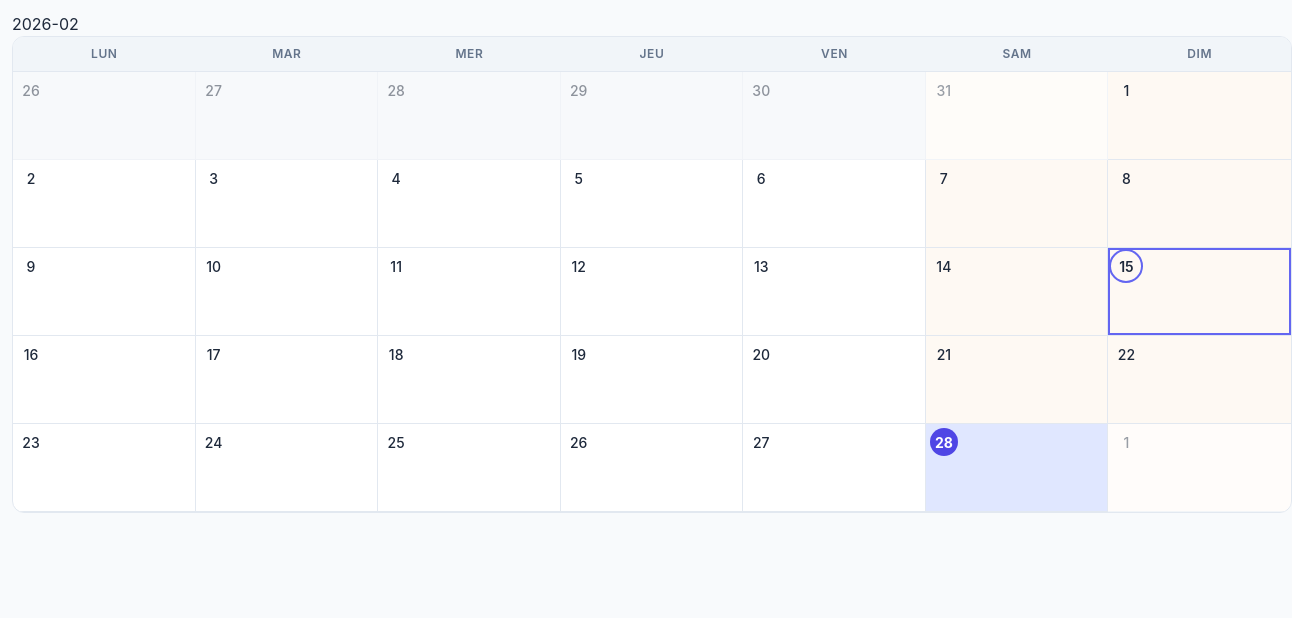
it: CalendarGrid swipe navigation › swipe left twice: Feb → Mar → Apr
Press the mouse on the table at (652, 274), box [12,36,1291,513]
Wait 500 ms
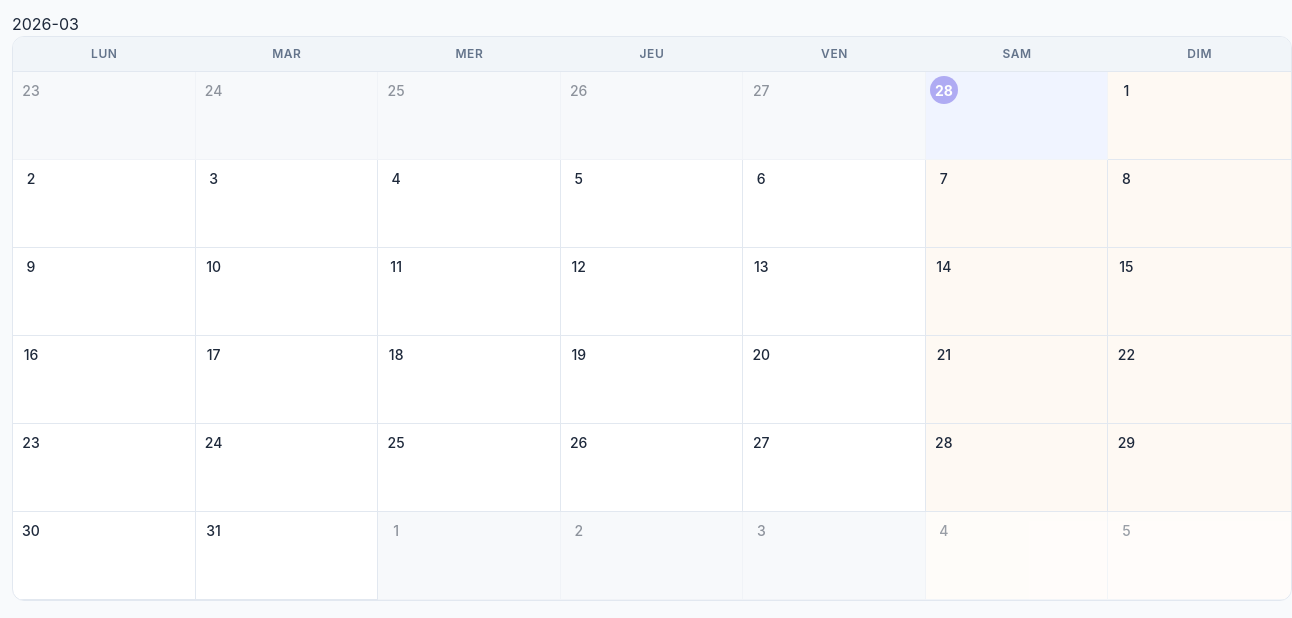
Result: the text with test id "current-month" reads "2026-03" at [12,14,79,34]
Press the mouse on the table at (652, 318), box [12,36,1291,601]
Wait 500 ms
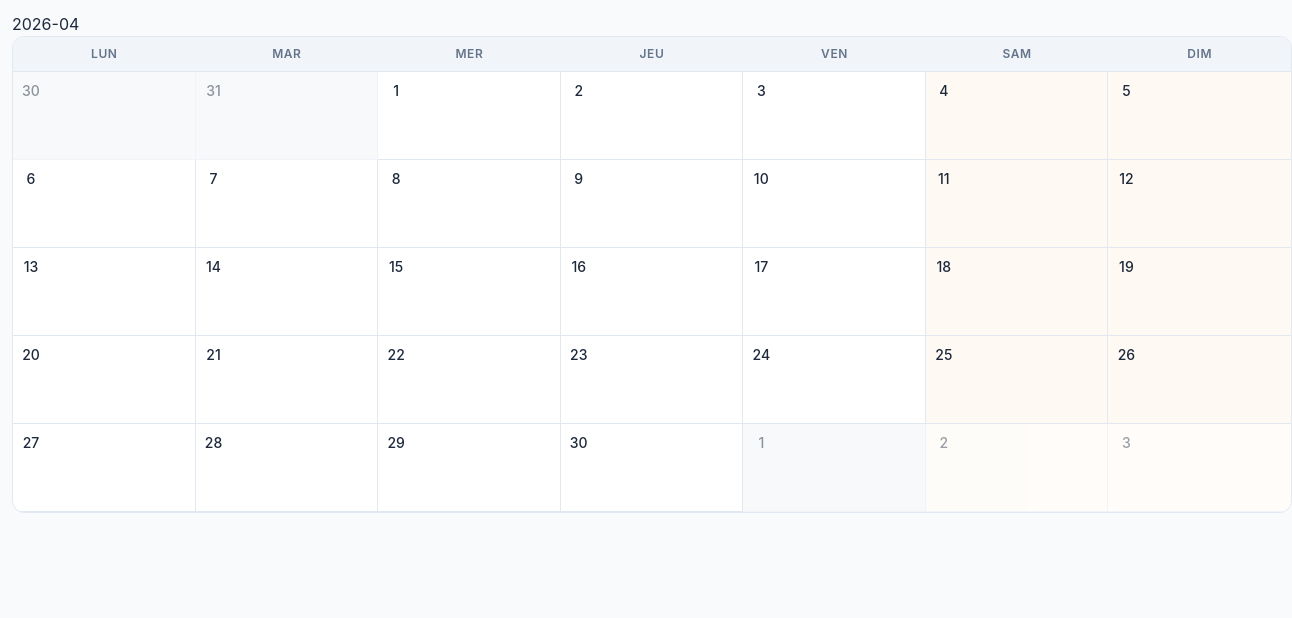
Result: the text with test id "current-month" reads "2026-04" at [12,14,79,34]
